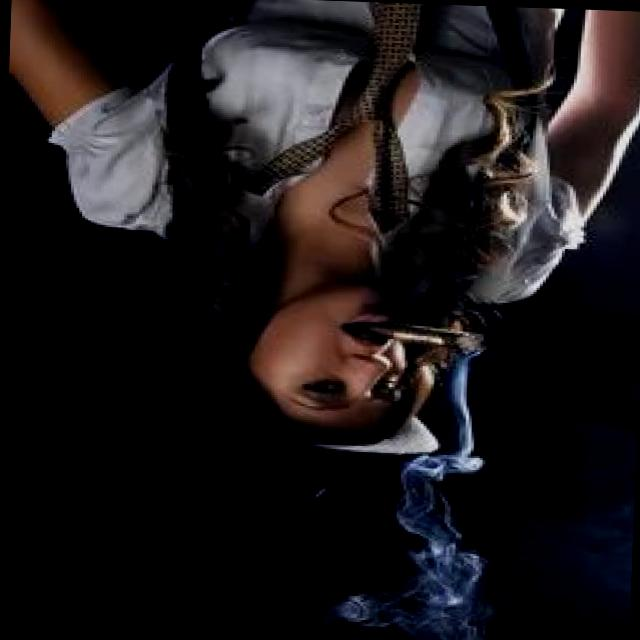cigarette: (348, 311, 490, 360)
